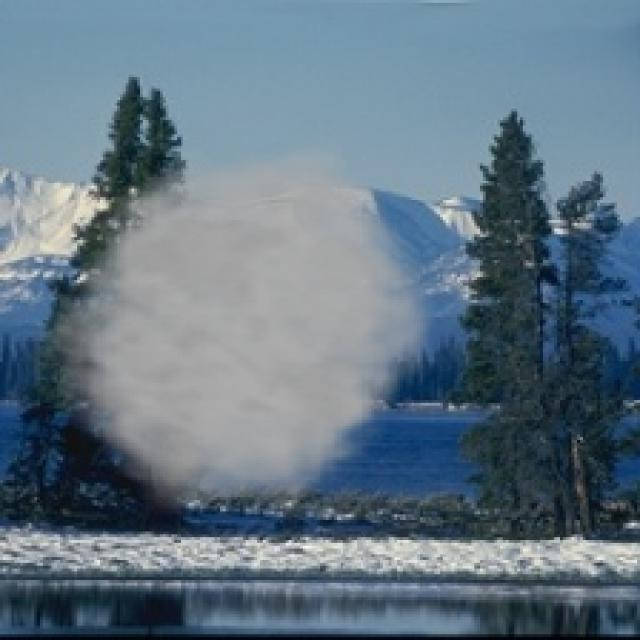smoke: (31, 132, 446, 514)
